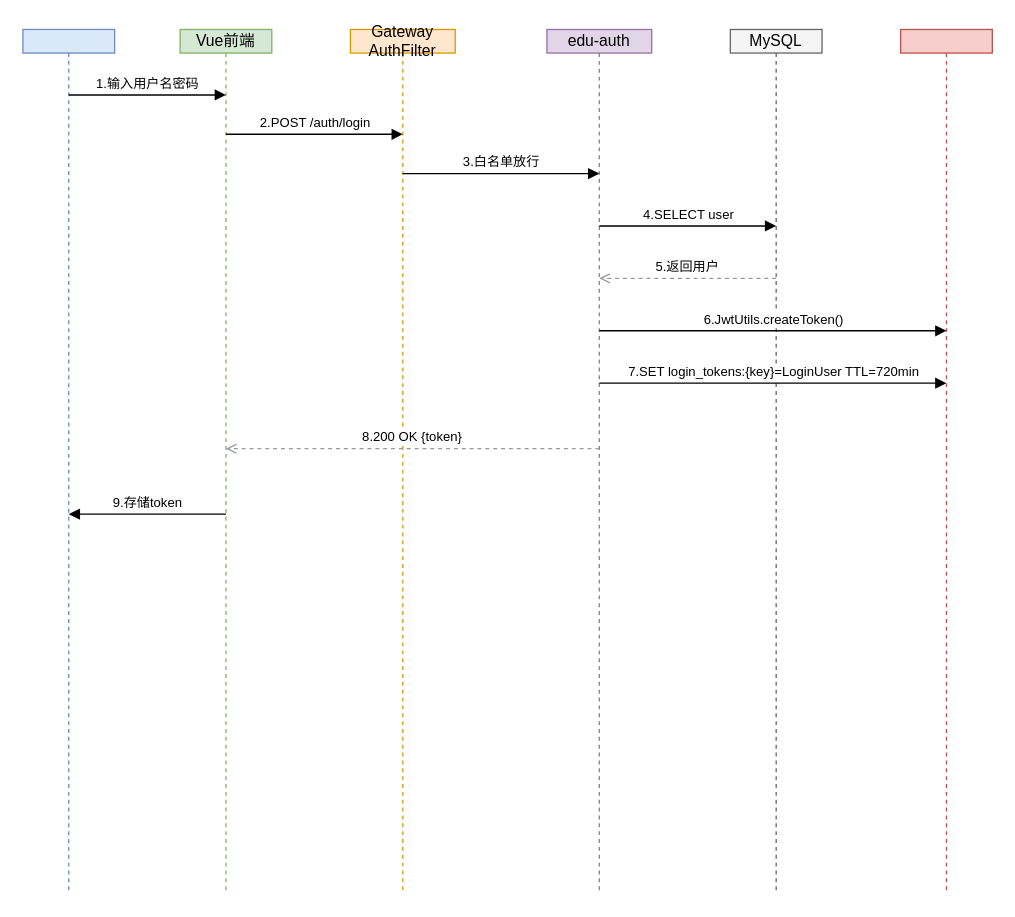
Some shapes in this 1015 by 917 pixel diagram are drawn without their labels. The shapes that lost their labels are listed below. From the top down, each one's box as (x1, y1, x2, y2) in pixels, then its label:
(22, 28, 115, 894): 用户
(899, 28, 992, 894): Redis
